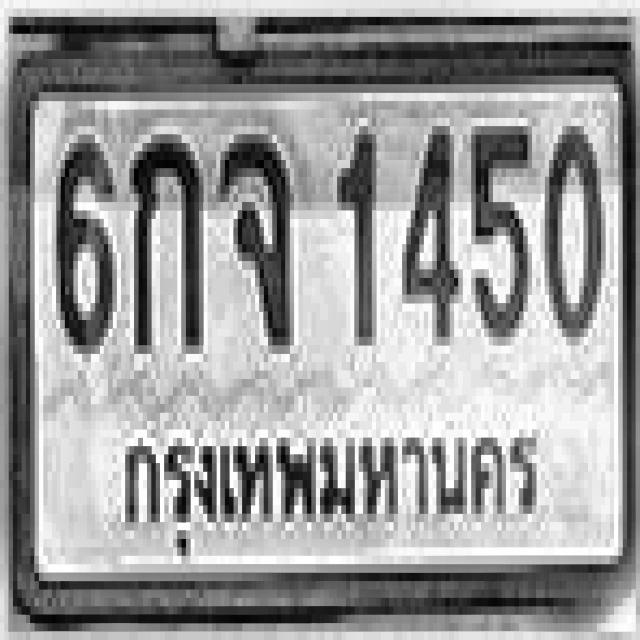license-plate: (16, 49, 632, 592)
